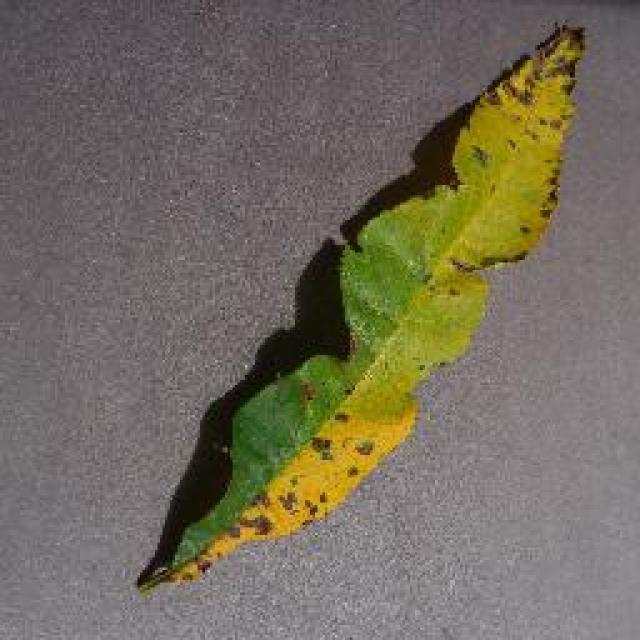Peach_Bacterial_Spot: (282, 232, 425, 508)
